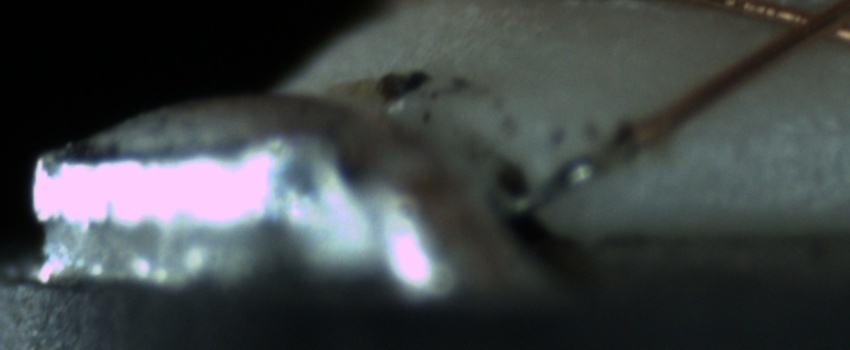CL: (763, 2, 848, 54)
TB: (561, 161, 601, 194)
TS: (508, 132, 641, 222)
TTCW: (516, 113, 674, 221)
